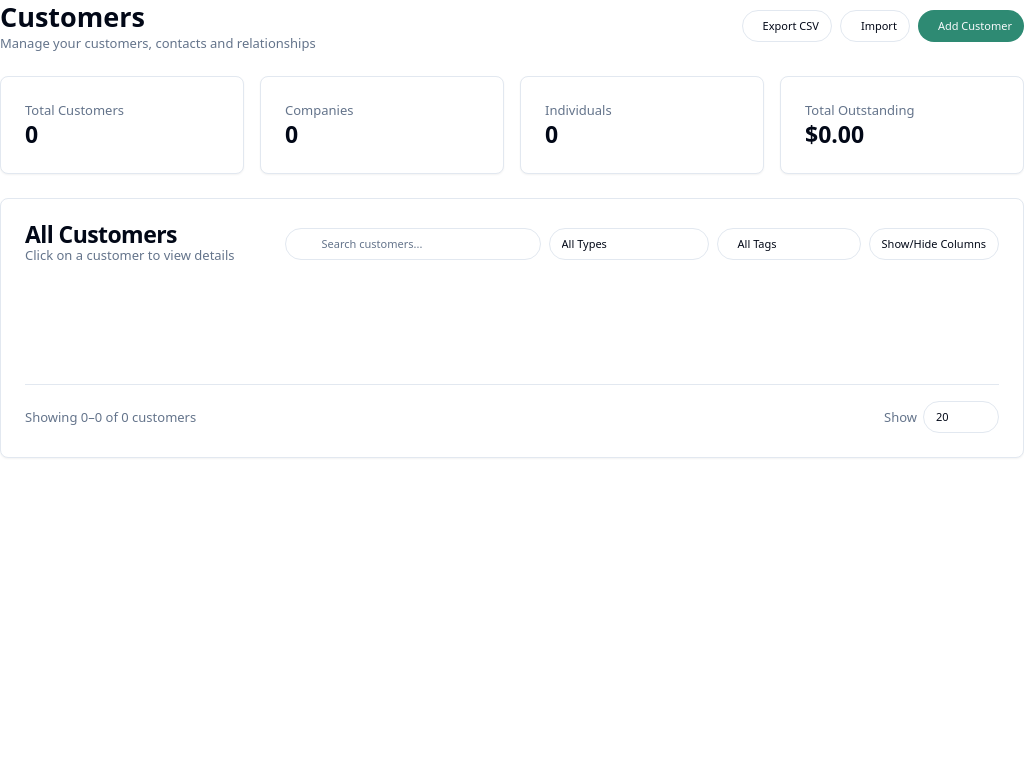
Test: CustomersPage create dialog — CU8 structured billing address › renders structured billing address fields with an ISO country input and no misleading placeholder
Click the button "Add Customer": (971, 26) left=918, top=10, right=1023, bottom=42
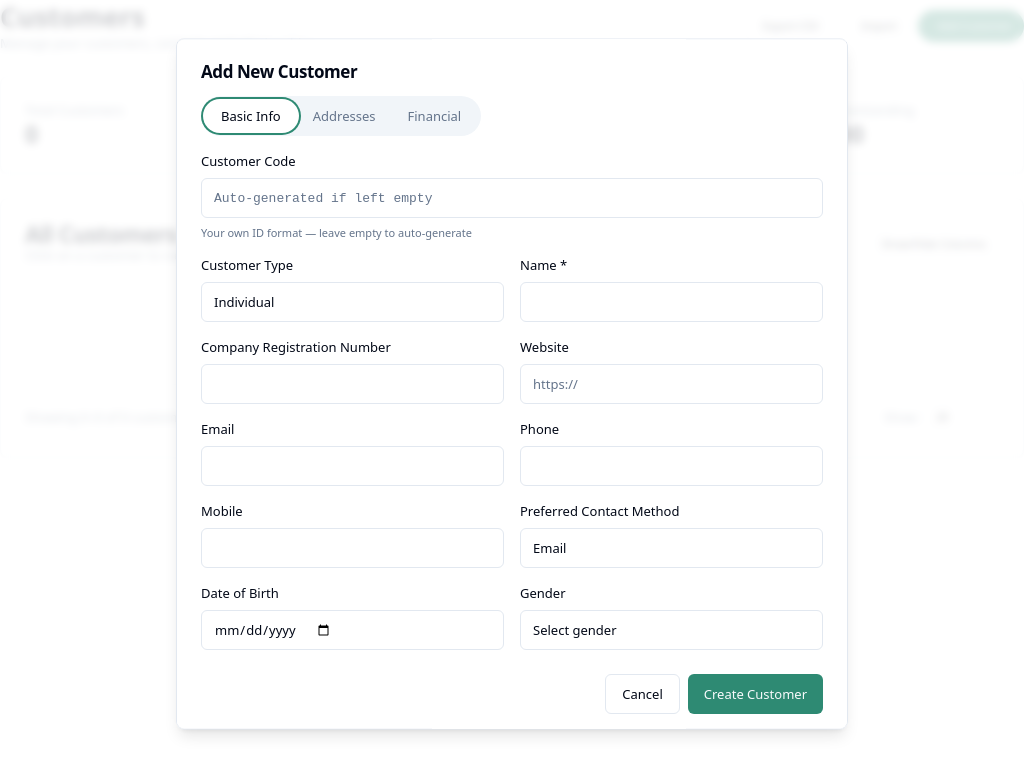
Check: the heading "Add New Customer" is shown, box left=201, top=60, right=357, bottom=83
Press the mouse on the tab "Addresses": (344, 116) left=297, top=101, right=392, bottom=131
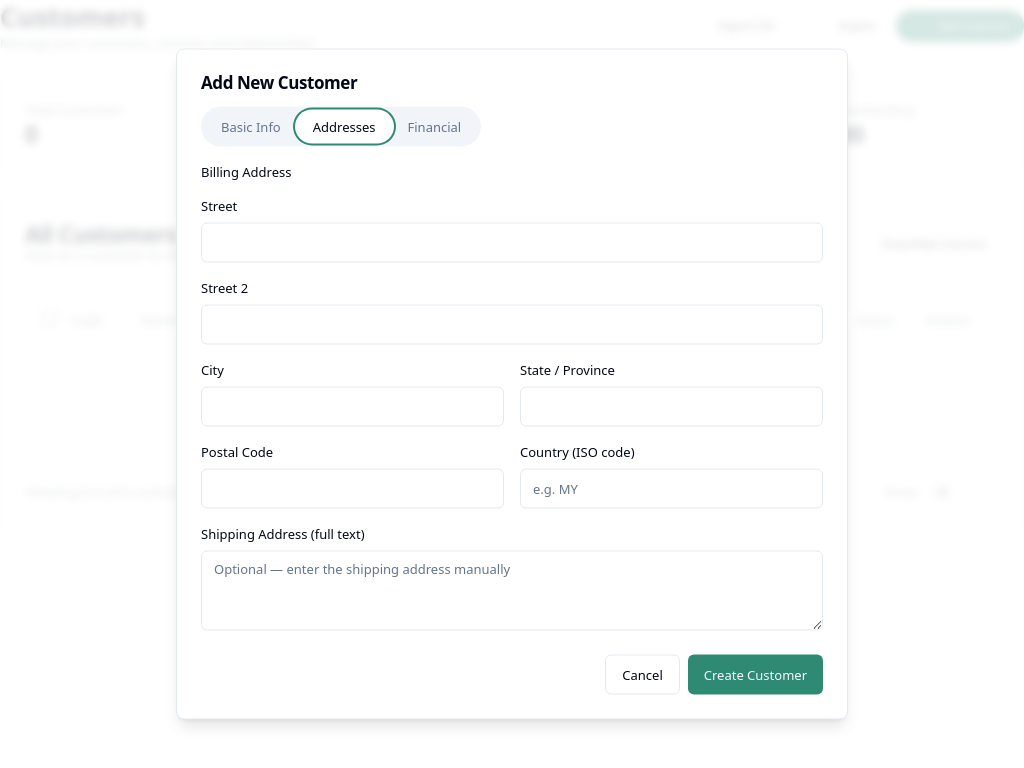
Check: the field labelled "Street" is shown, box left=201, top=222, right=823, bottom=262
Check: the field labelled "Street 2" is shown, box left=201, top=304, right=823, bottom=344
Check: the field labelled "City" is shown, box left=201, top=386, right=504, bottom=426
